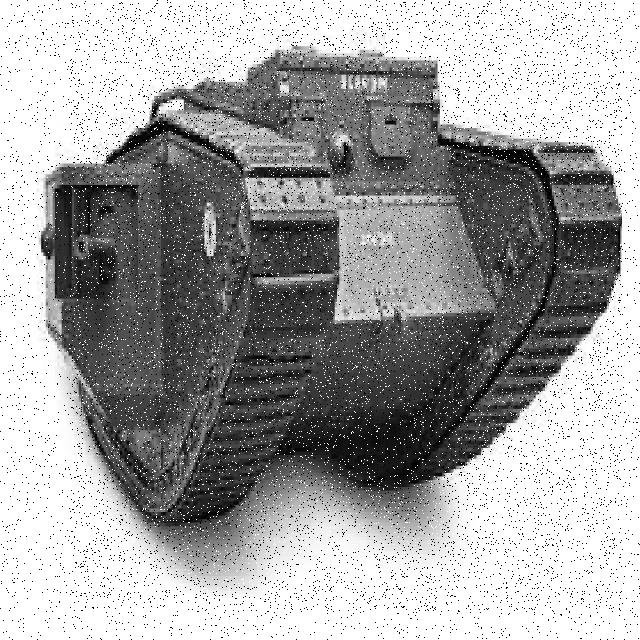MIL_MBT: (70, 2, 622, 613)
